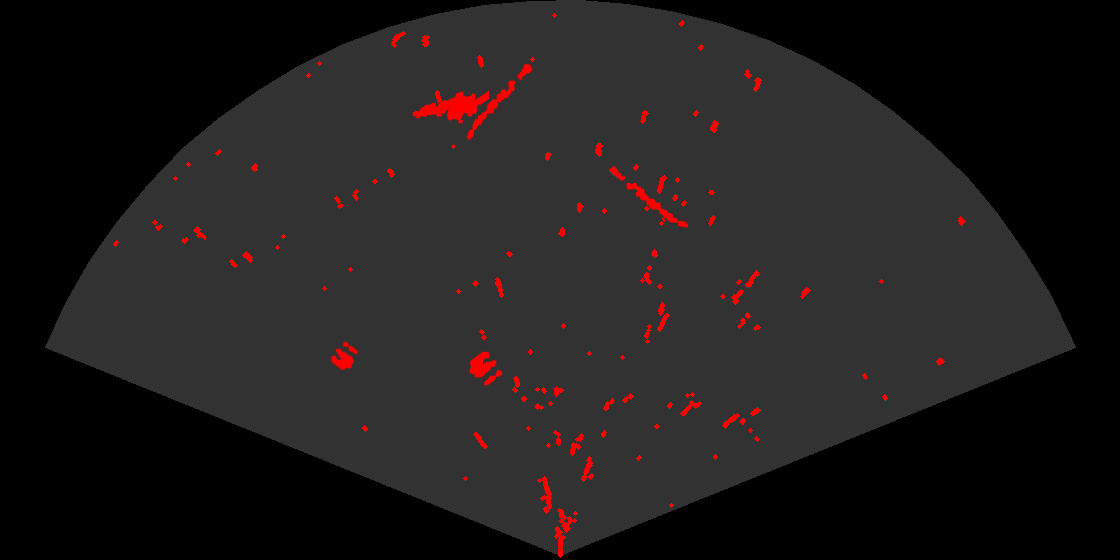ball: (468, 350, 504, 387), (329, 340, 360, 372)
chain: (465, 62, 534, 141), (607, 164, 690, 229)
frogman: (411, 89, 489, 125)
